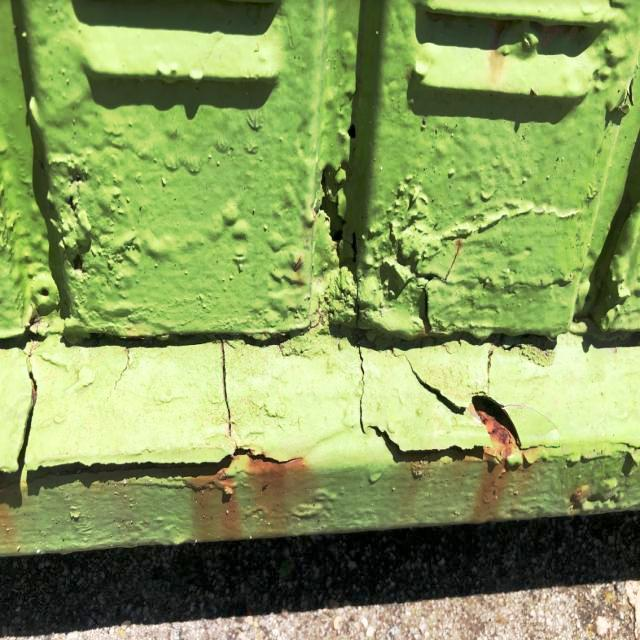Corrosion: (479, 408, 513, 450), (248, 453, 300, 472), (573, 484, 584, 499)
